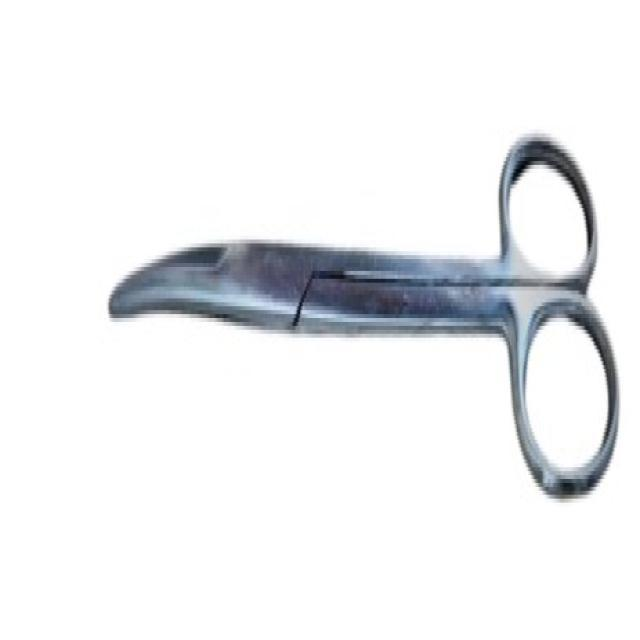Curved Mayo: (104, 118, 624, 508)
